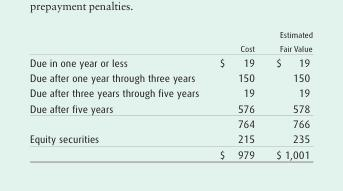table: (29, 28, 312, 159)
table column: (29, 28, 208, 159), (208, 28, 264, 159), (264, 28, 312, 159)
table column header: (29, 28, 312, 54)
table row: (29, 28, 312, 54), (29, 69, 312, 85), (29, 130, 312, 146), (29, 54, 312, 69), (29, 85, 312, 100), (29, 100, 312, 115), (29, 115, 312, 130), (29, 146, 312, 159)
